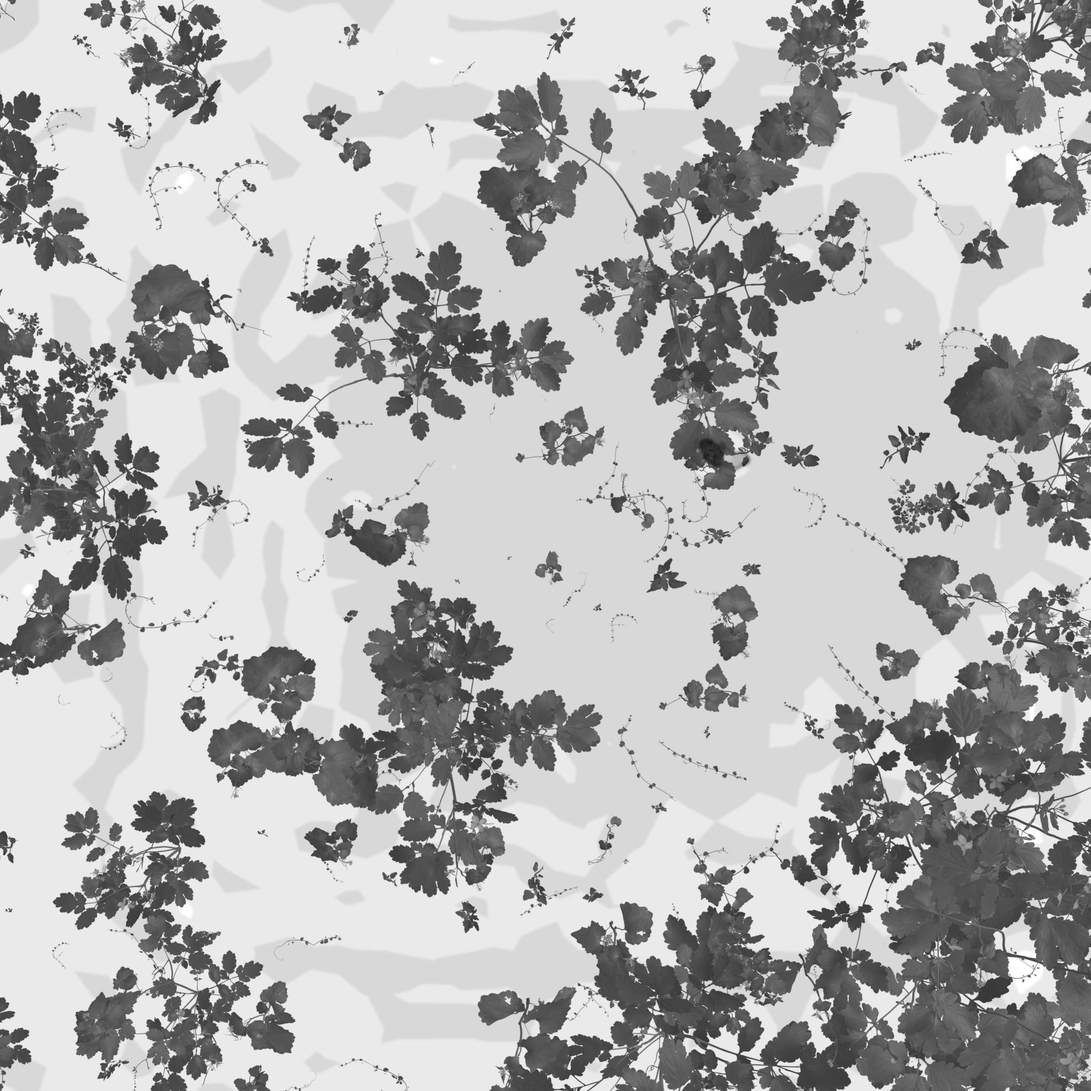landmine: (720, 444, 754, 469)
